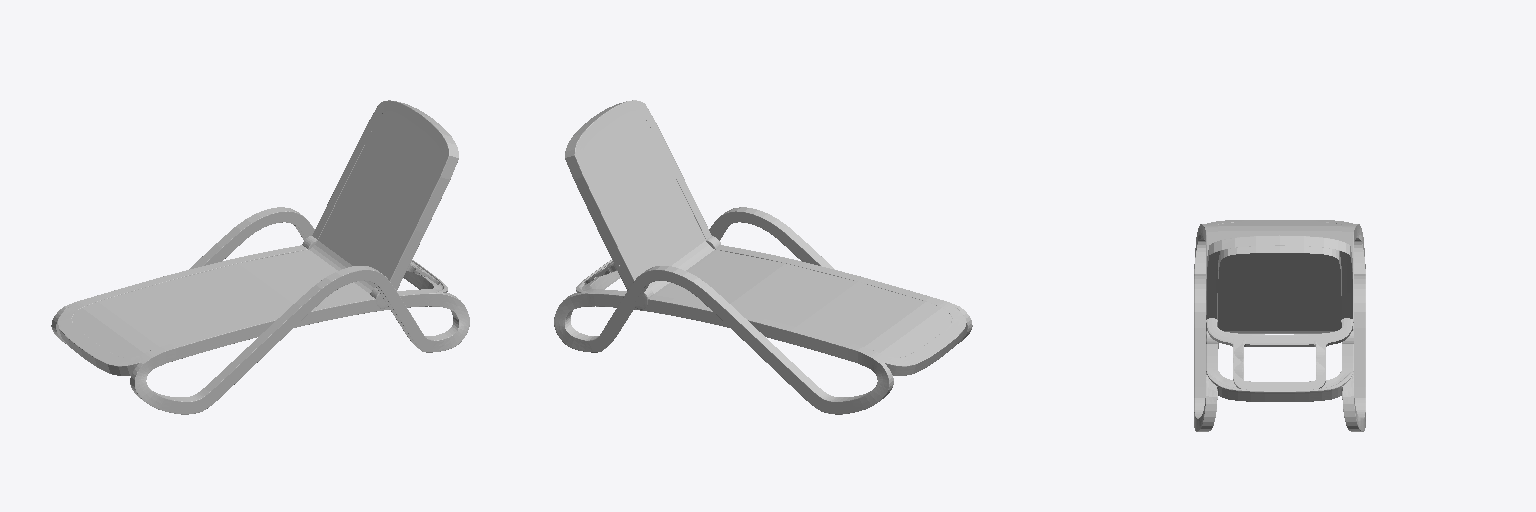
The model's file is Sunlounger high.obj.
3 renders of one model, left to right at view 1: azimuth 30°, elevation 25°; view 2: azimuth 150°, elevation 25°; view 3: azimuth 270°, elevation 25°, orthographic.
Parts seen in each view (by area): view 1: SunLounger_Fabric, Sunlounger_Body, SunLounger_Head; view 2: SunLounger_Fabric, Sunlounger_Body, SunLounger_Head; view 3: SunLounger_Fabric, Sunlounger_Body, SunLounger_Head, Back_Support.
Part boxes in pixels (left/top/right/bottom): SunLounger_Fabric: left=72, top=111, right=440, bottom=357; Sunlounger_Body: left=51, top=207, right=469, bottom=414; SunLounger_Head: left=312, top=100, right=458, bottom=290; SunLounger_Fabric: left=584, top=111, right=951, bottom=357; Sunlounger_Body: left=554, top=207, right=972, bottom=414; SunLounger_Head: left=565, top=100, right=711, bottom=290; SunLounger_Fabric: left=1218, top=222, right=1341, bottom=333; Sunlounger_Body: left=1194, top=220, right=1365, bottom=431; SunLounger_Head: left=1206, top=235, right=1352, bottom=330; Back_Support: left=1207, top=318, right=1352, bottom=390.
Bounding box in the file's own units: 164 × 90.15 × 69.24.